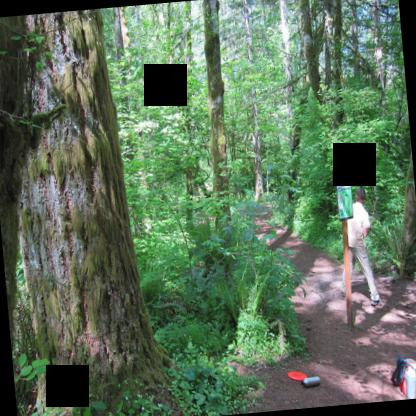backpack: (392, 355, 416, 395)
